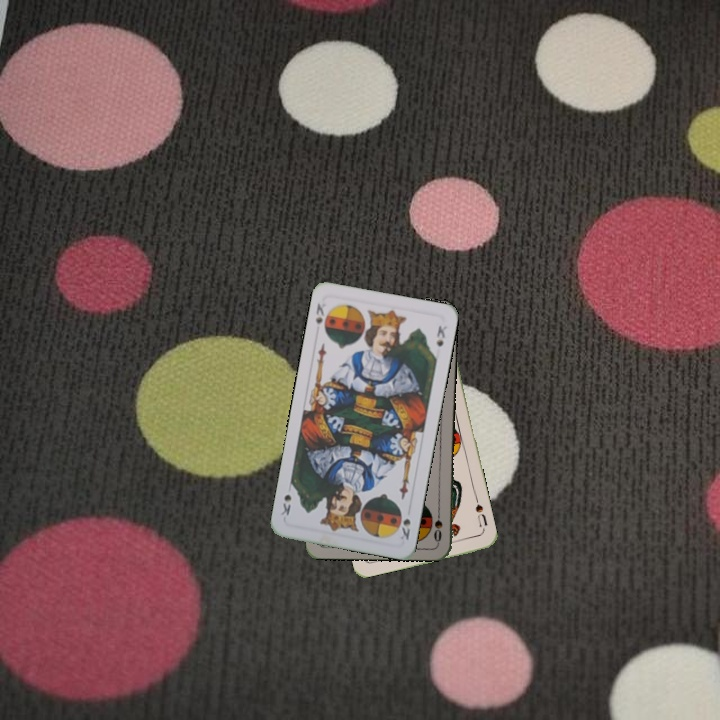SK: (394, 508, 413, 542), (311, 299, 328, 327)
SO: (430, 504, 445, 544)
SU: (471, 494, 490, 529)
